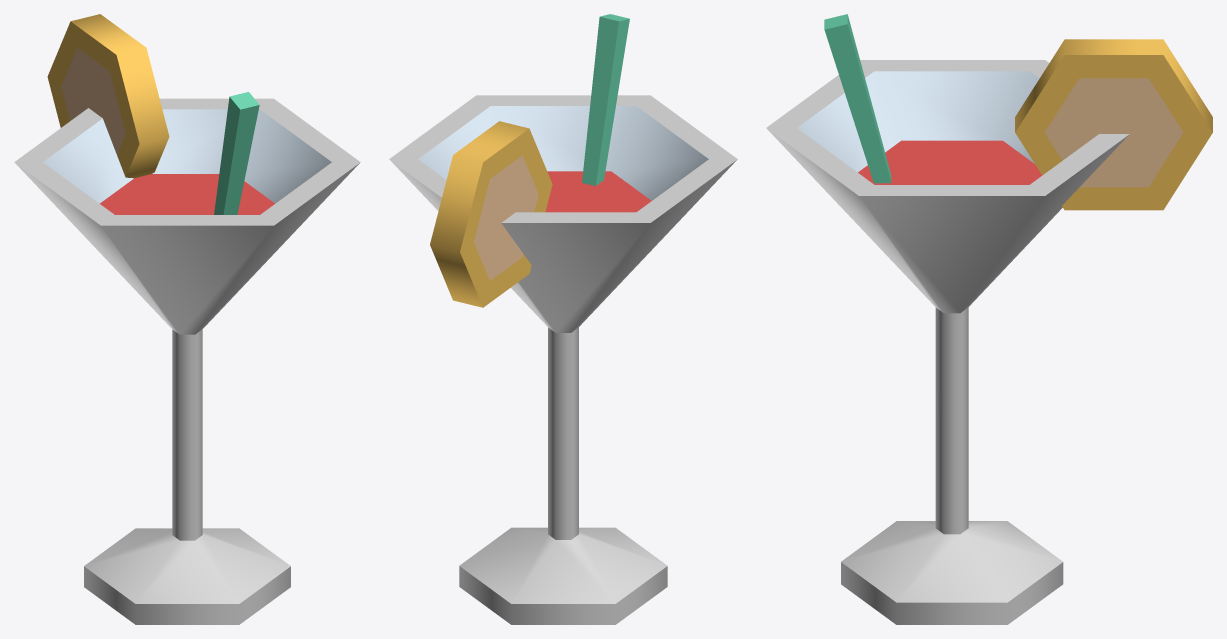
The model's file is cocktail.fbx.
The picture shows the model from 3 angles, left to right: view 1: azimuth 30°, elevation 25°; view 2: azimuth 150°, elevation 25°; view 3: azimuth 270°, elevation 25°; orthographic projection. The views are drawn at different scales.
Visible parts, largest first — view 1: cocktail, lemon, straw; view 2: cocktail, lemon, straw; view 3: cocktail, lemon, straw.
Part boxes in pixels (<box>): cocktail: <box>14,98,360,624</box>; lemon: <box>47,14,169,178</box>; straw: <box>214,92,259,214</box>; cocktail: <box>389,95,737,624</box>; lemon: <box>430,121,552,307</box>; straw: <box>582,14,629,185</box>; cocktail: <box>766,60,1129,624</box>; lemon: <box>1015,39,1212,210</box>; straw: <box>824,14,891,183</box>.
Bounding box in the file's own units: 2.61 × 5.06 × 3.61.
